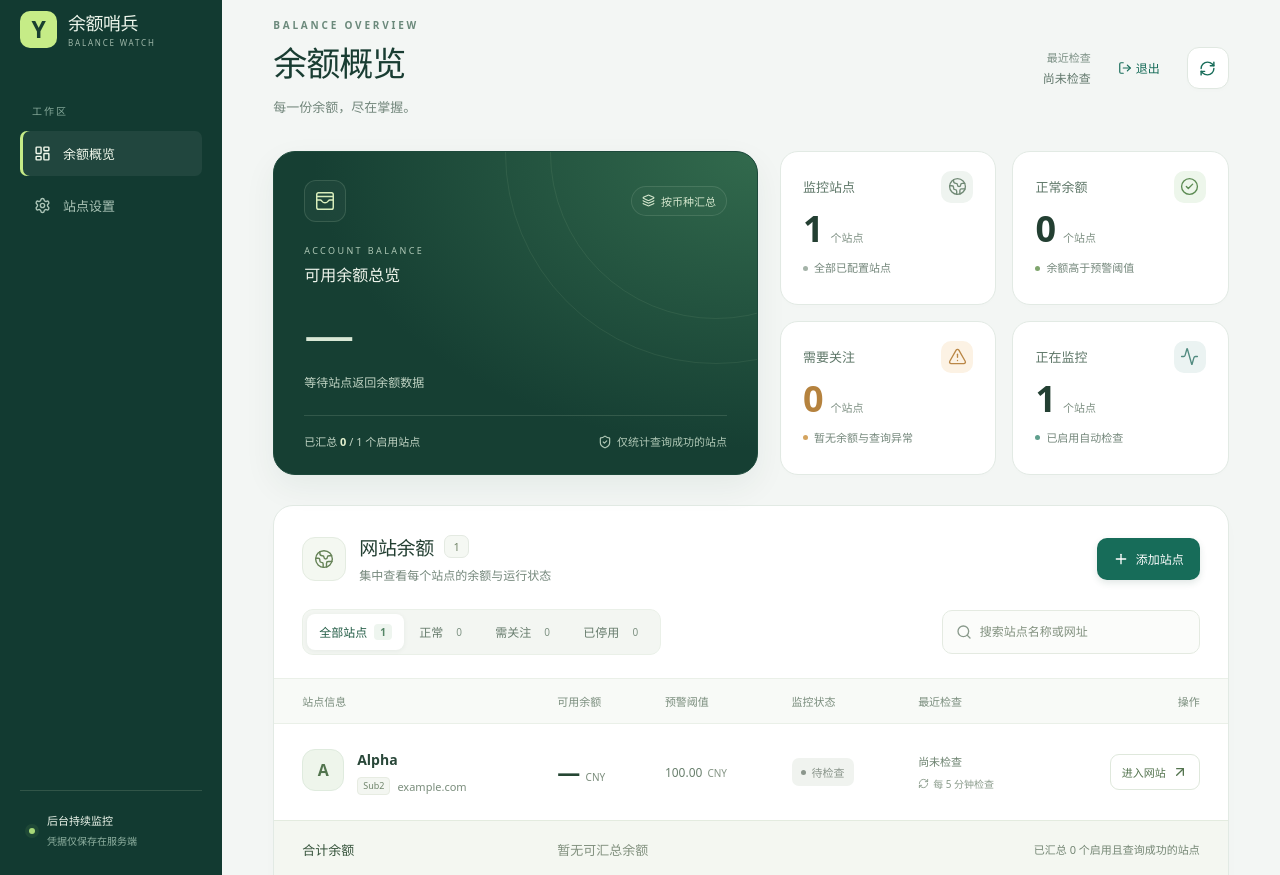
it: React 页面流程 › 先保存再检查，显示零余额和预警状态
Click the button "Alpha": (377,759) [357,749,398,770]
(page scrolled)
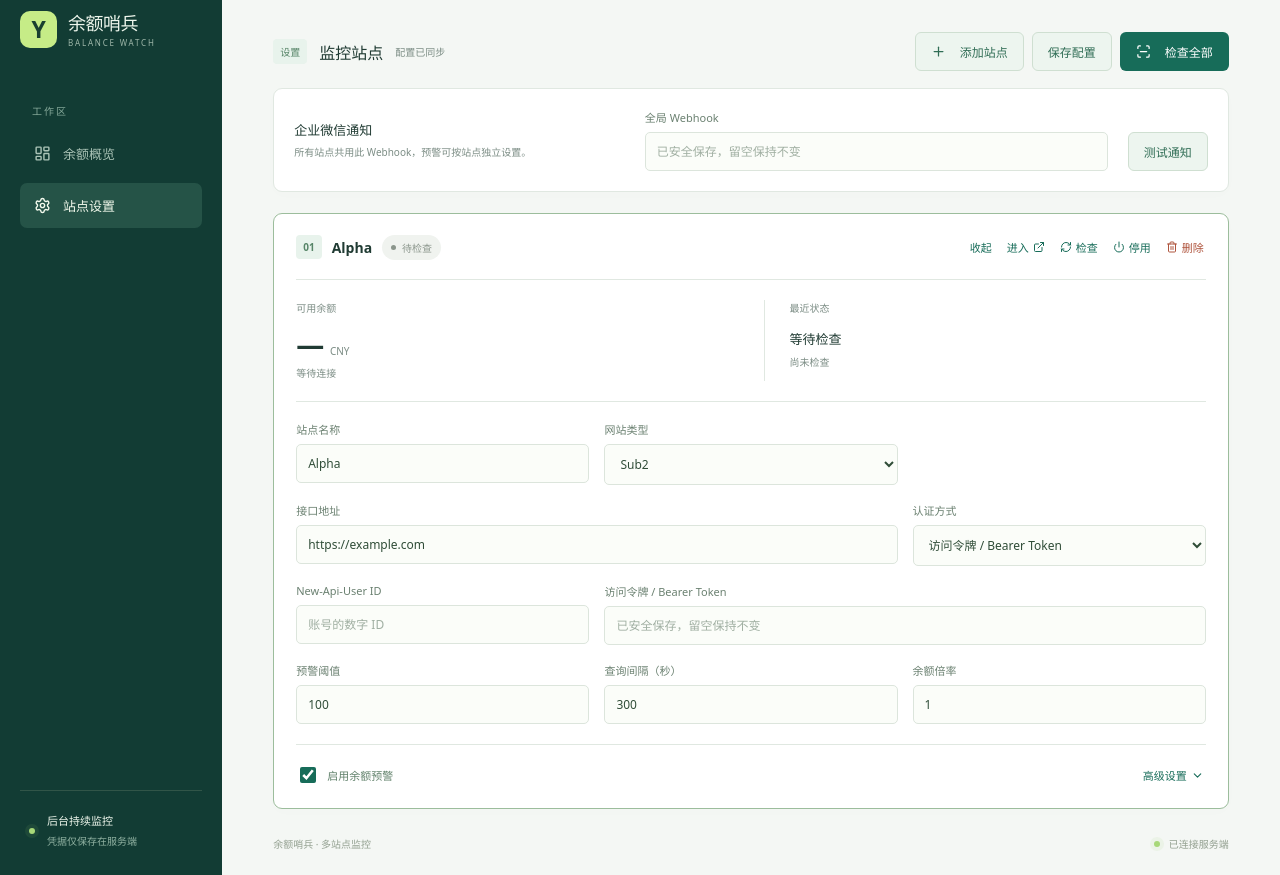
Click the button "检查全部": (1174,52) [1120,32,1229,71]
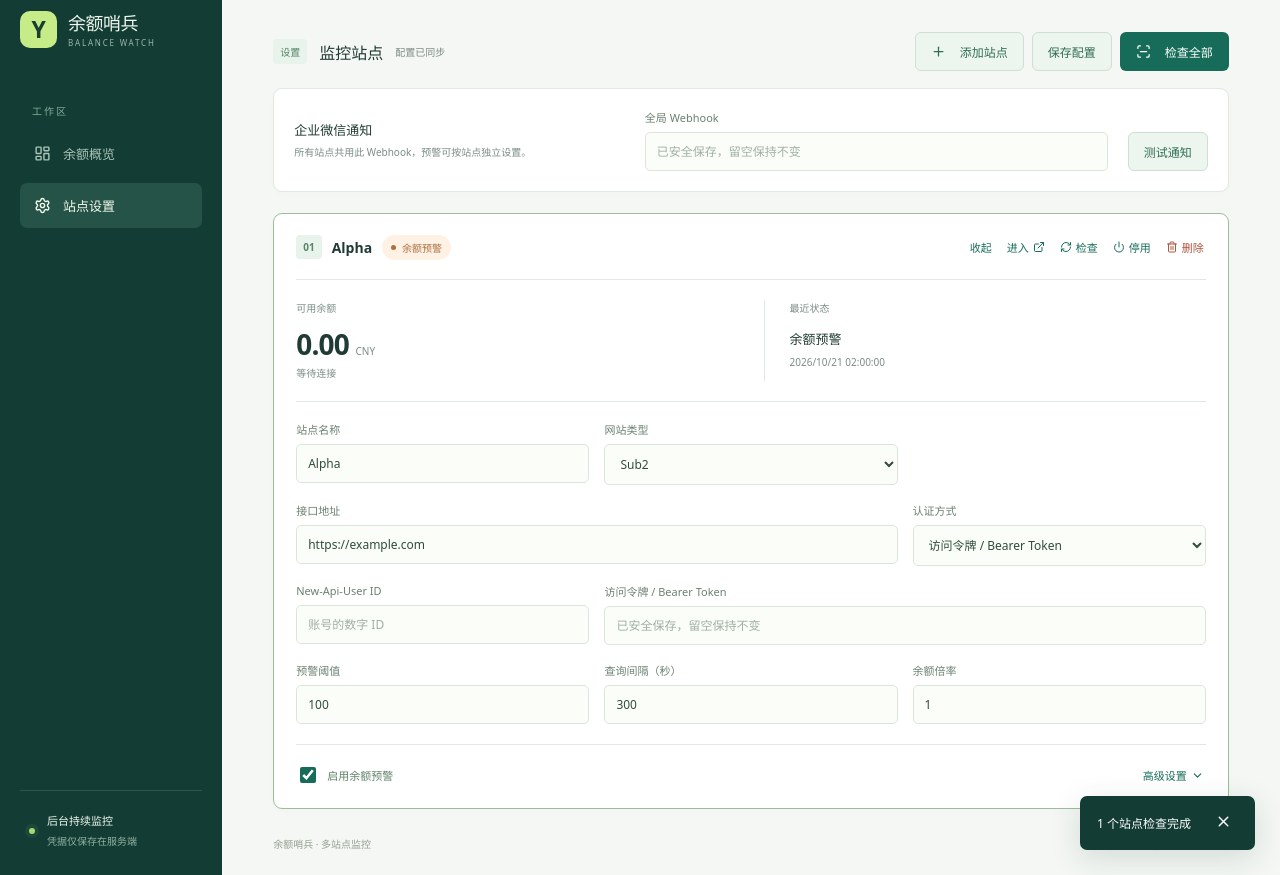
Check: the text "1 个站点检查完成" is shown, box [1080,796,1255,850]
Check: the text "余额预警" is shown, box [382,234,451,260]
Check: the text "0.00" is shown, box [296,325,349,363]
